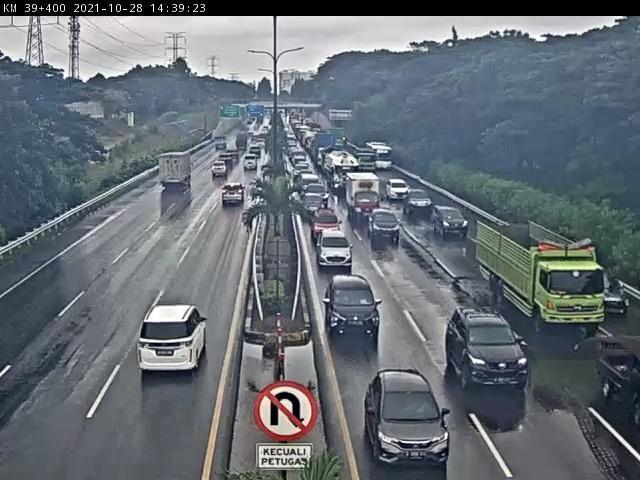car: (364, 370, 451, 465), (446, 307, 529, 388), (137, 309, 206, 374), (323, 277, 380, 337), (318, 230, 352, 265), (434, 205, 469, 238), (367, 208, 399, 239), (310, 206, 340, 236), (407, 192, 435, 215), (222, 184, 248, 207), (304, 184, 331, 204), (303, 194, 325, 217), (211, 160, 228, 179)
truck: (476, 220, 602, 327), (597, 337, 640, 427), (345, 174, 379, 218), (159, 154, 193, 193)
